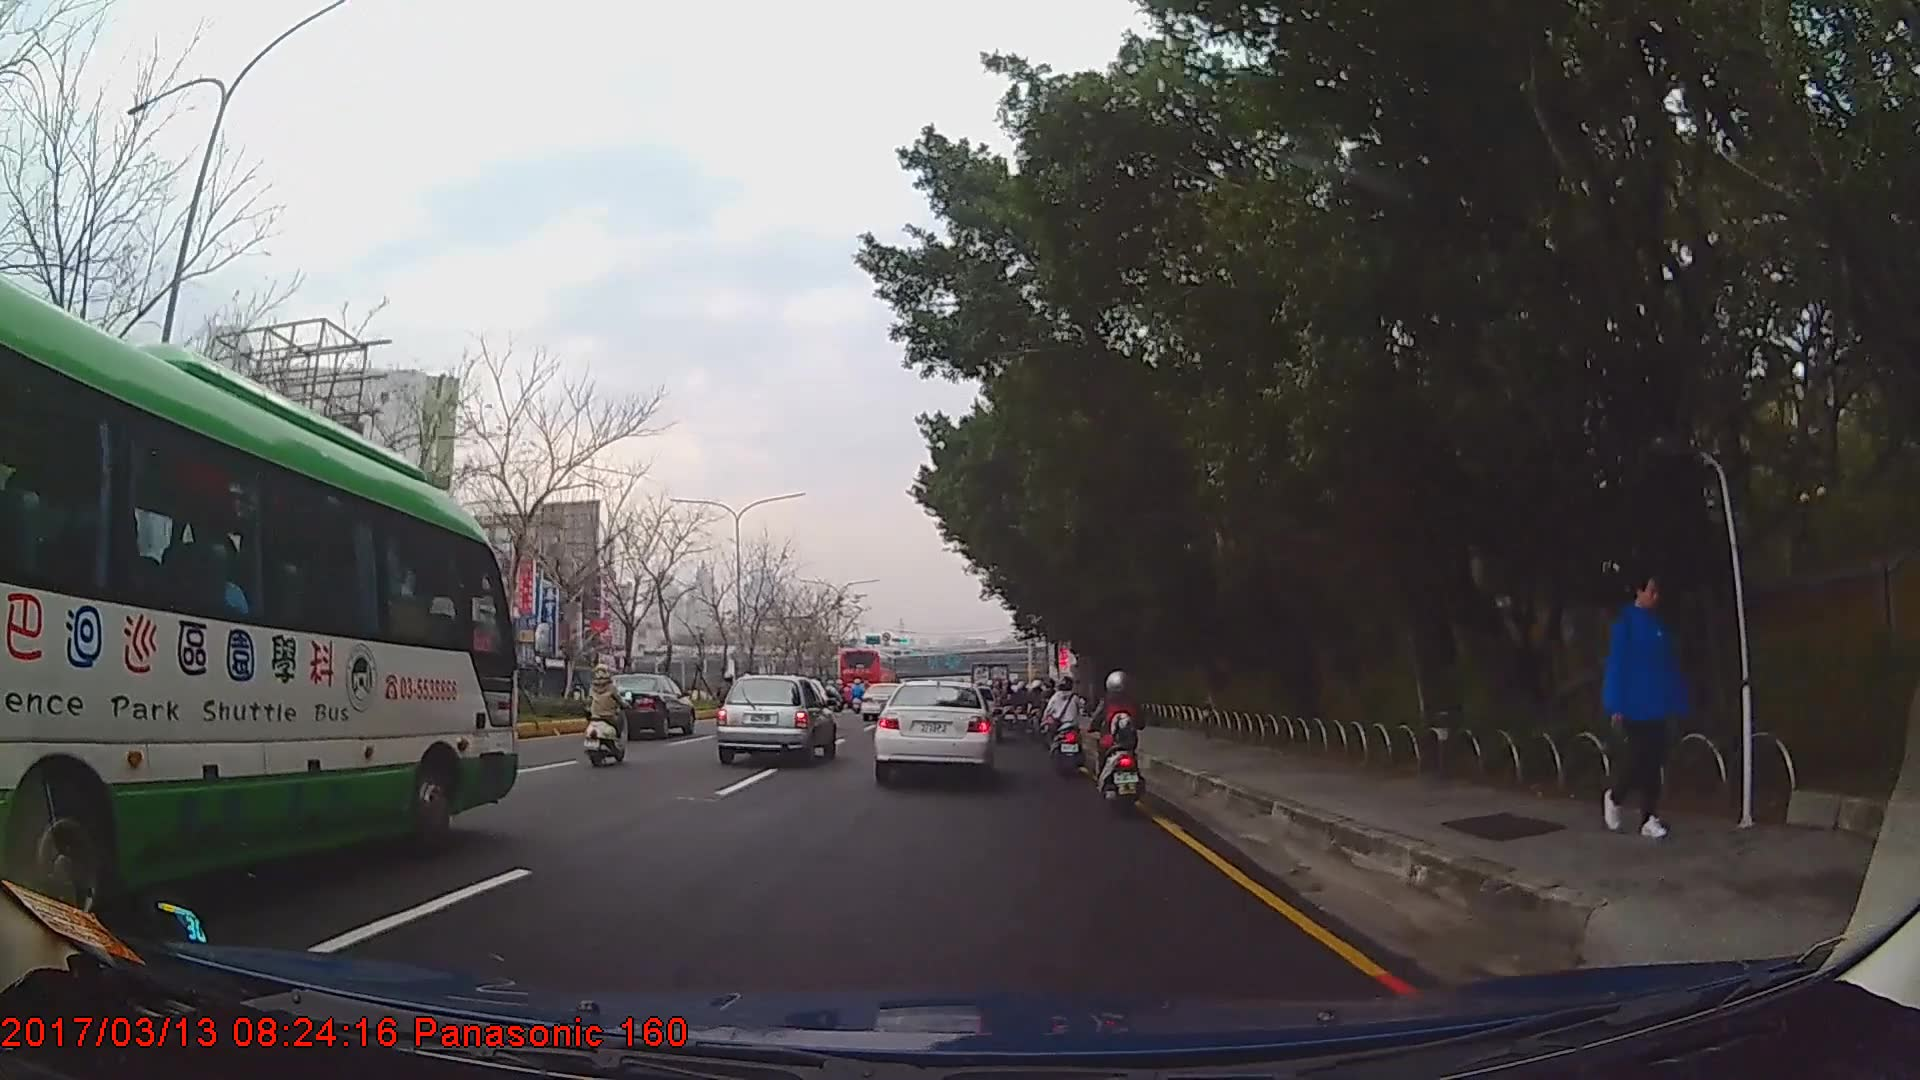pedestrian: (1599, 572, 1676, 838)
rider: (1094, 671, 1147, 817), (586, 665, 632, 766), (1044, 665, 1087, 769), (1039, 677, 1060, 752)
vehicle: (0, 267, 518, 952), (873, 676, 995, 781), (716, 669, 836, 760), (584, 671, 693, 738), (832, 643, 898, 702)
